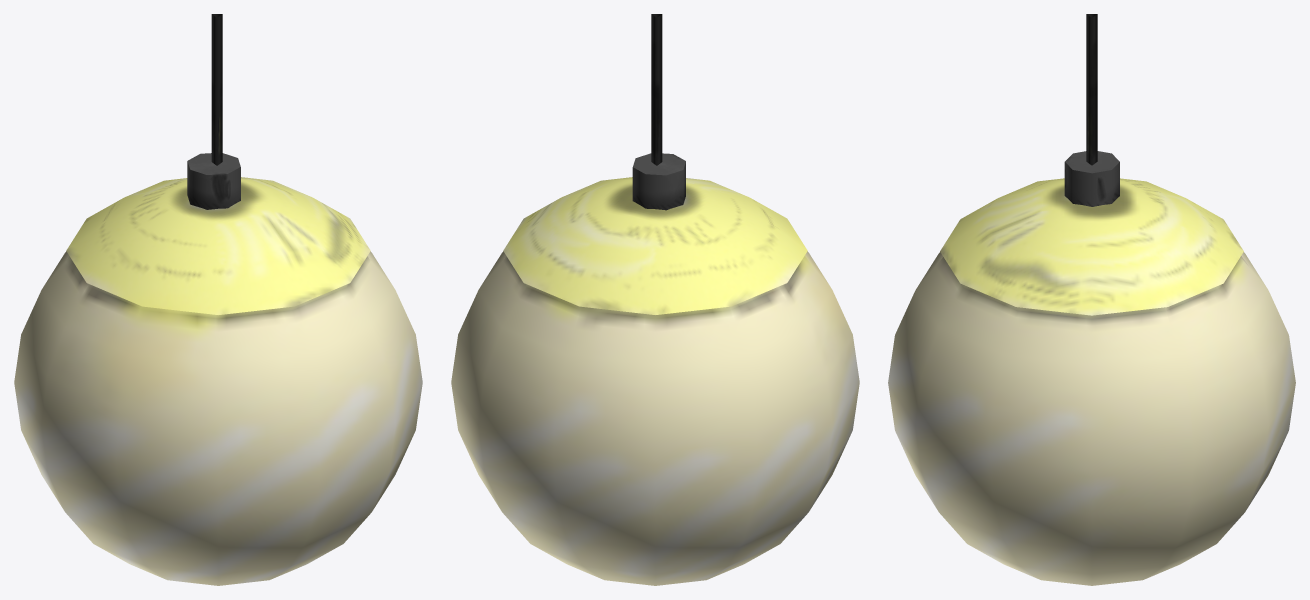
File: lamp_boule.fbx
The picture shows the model from 3 angles, left to right: view 1: azimuth 30°, elevation 25°; view 2: azimuth 150°, elevation 25°; view 3: azimuth 270°, elevation 25°; orthographic projection.
Visible parts, largest first — view 1: polySurface1762, polySurface1764; view 2: polySurface1762, polySurface1764; view 3: polySurface1762, polySurface1764.
Part boxes in pixels (x1,y1,x2,y2): polySurface1762: (14, 251, 422, 585); polySurface1764: (66, 14, 370, 314); polySurface1762: (451, 251, 859, 585); polySurface1764: (503, 14, 807, 314); polySurface1762: (888, 252, 1295, 585); polySurface1764: (940, 14, 1243, 315).
Size of the model in its own units: 33.65 by 50.21 by 33.65.
